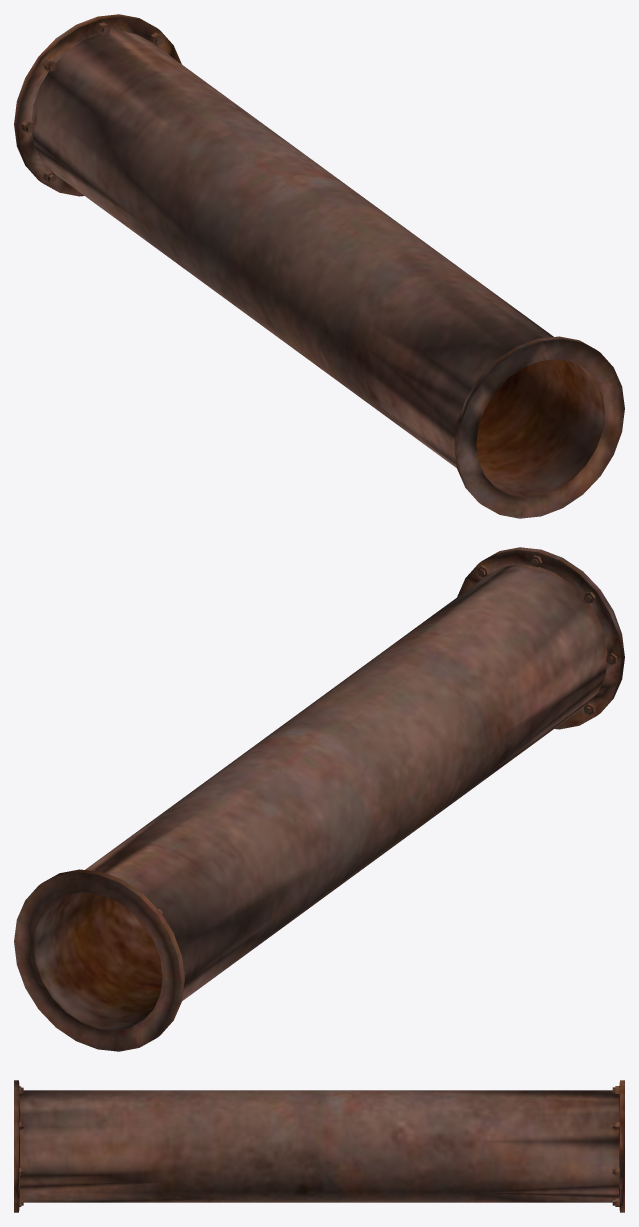
Rendered from rusty_pipe_24.glb.
The picture shows the model from 3 angles, top to bottom: view 1: azimuth 30°, elevation 25°; view 2: azimuth 150°, elevation 25°; view 3: azimuth 270°, elevation 25°; orthographic projection. The views are drawn at different scales.
Visible parts, largest first — view 1: rusty_pipe_24; view 2: rusty_pipe_24; view 3: rusty_pipe_24.
Boxes of the visible parts, box(x1,y1,x2,y2) form: rusty_pipe_24: box(14, 14, 624, 518); rusty_pipe_24: box(14, 547, 624, 1051); rusty_pipe_24: box(14, 1080, 624, 1212).
Size of what is drawn, in the model's own units: 0.0287 by 0.0287 by 0.1318.
1 material, 1 textured.
